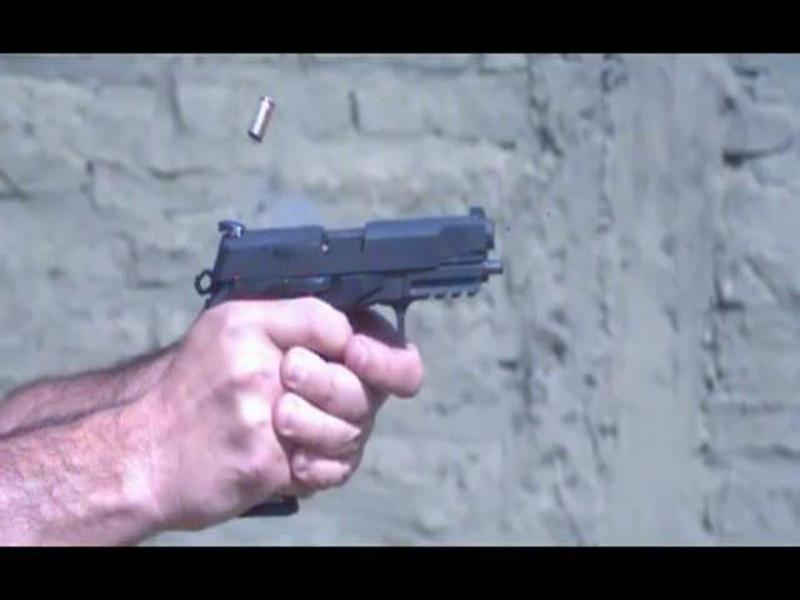Pistola: (192, 189, 557, 345)
